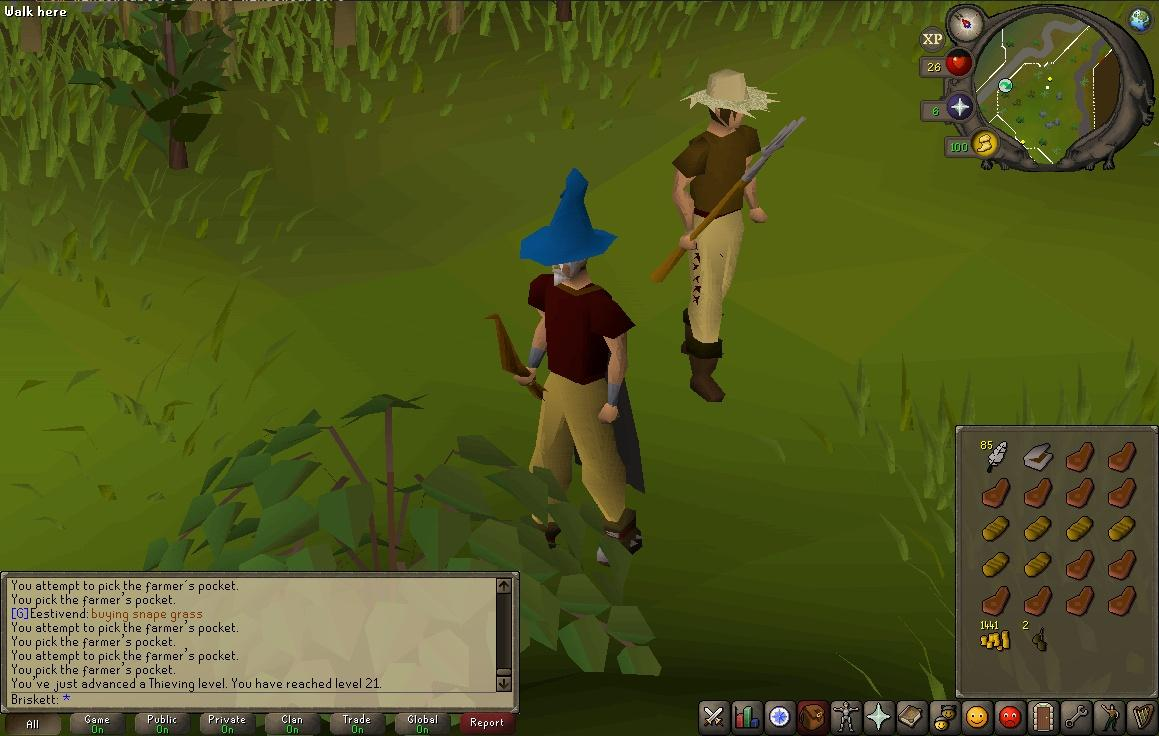Farmer: (670, 68, 780, 403)
